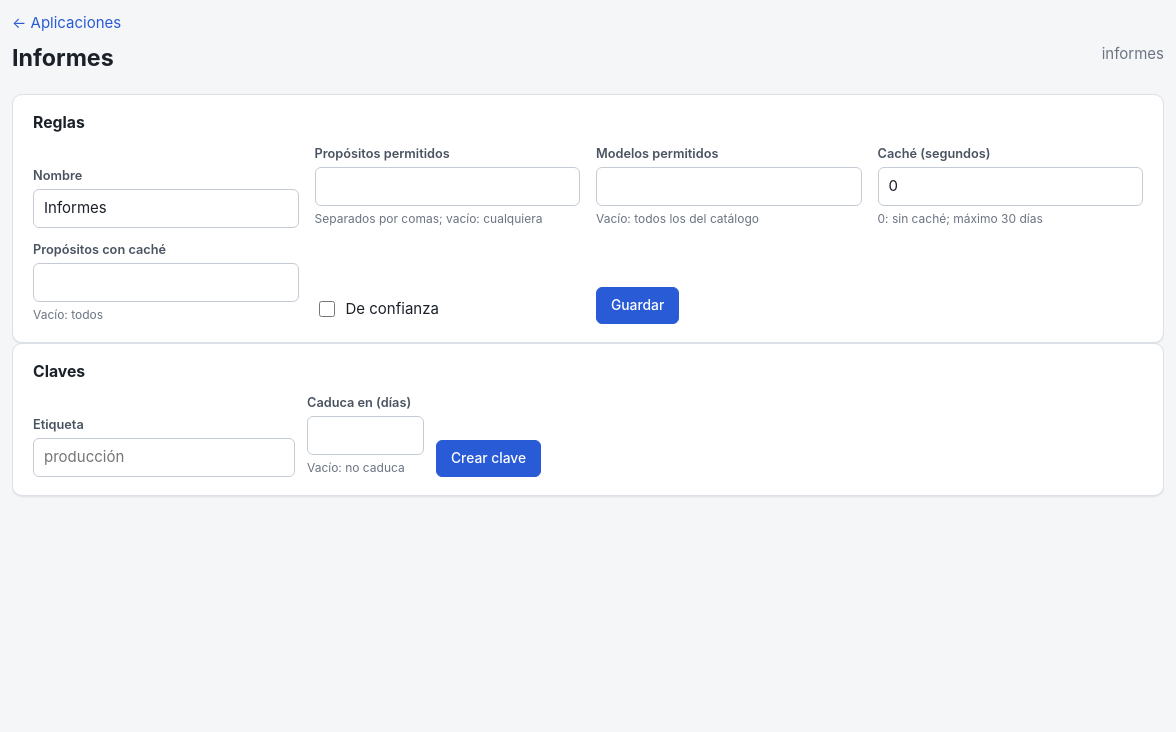
Test: detalle de una aplicación › guarda las reglas con listas separadas por comas
Type "resumen, informe ," into the field named "Propósitos permitidos" below "Propósitos permitidos".
click(447, 187); type("resumen, informe ,")  # box [314,167,580,206]
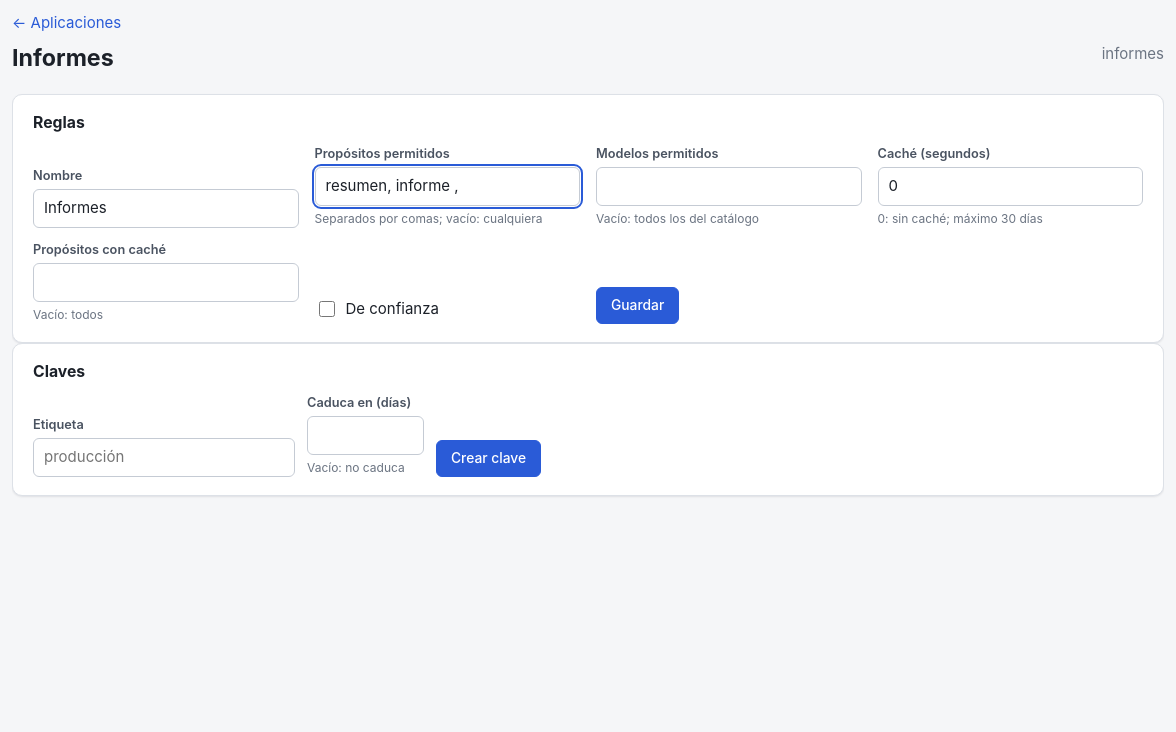
Click the button "Guardar".
click(638, 305)  # box [596,287,679,324]
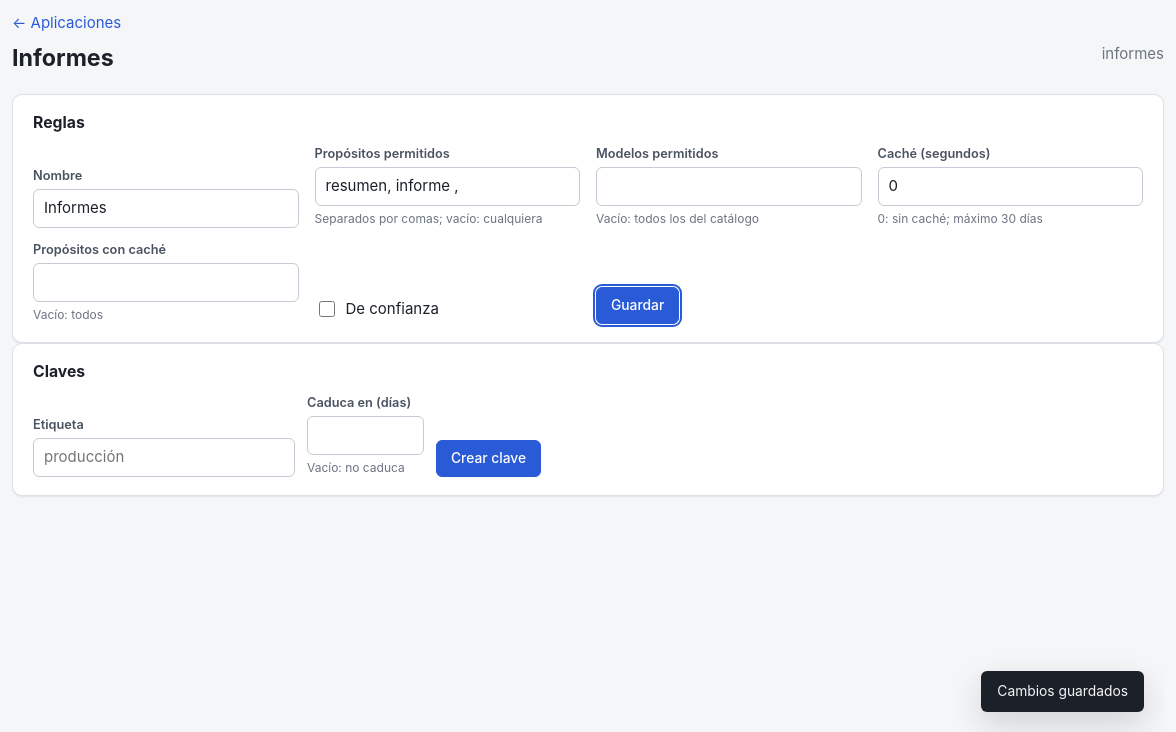
Expected: the text "Cambios guardados" is shown, [981,671,1144,712]
